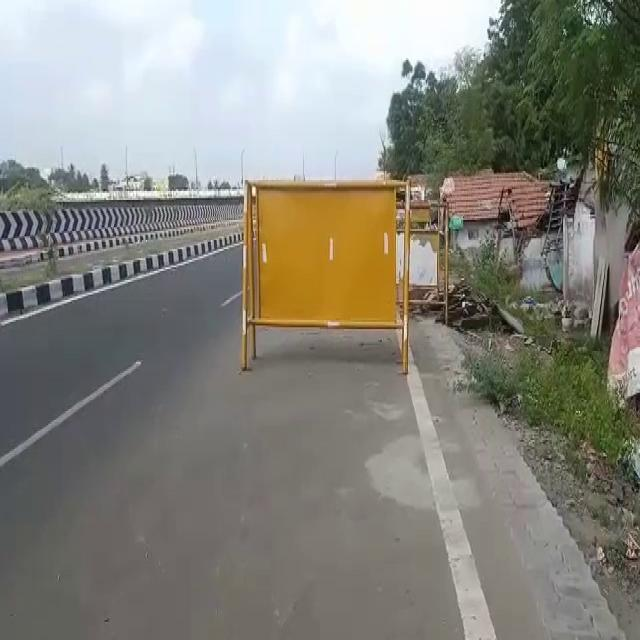fallen_object: (213, 119, 430, 391)
